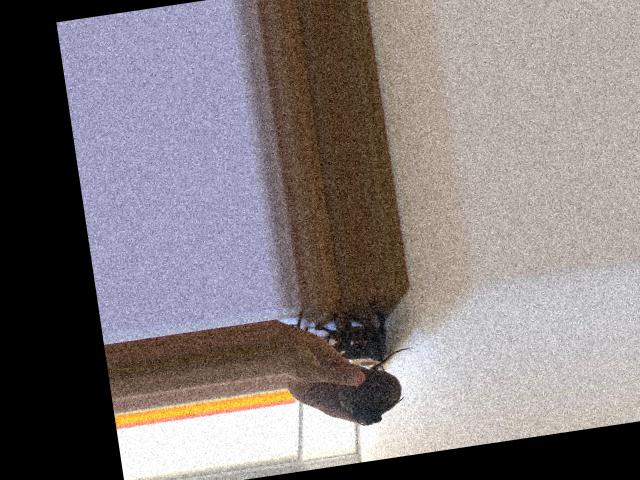beet: (333, 346, 423, 428)
